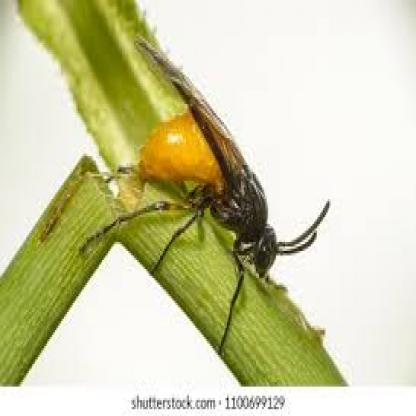sawfly: (74, 30, 331, 342)
